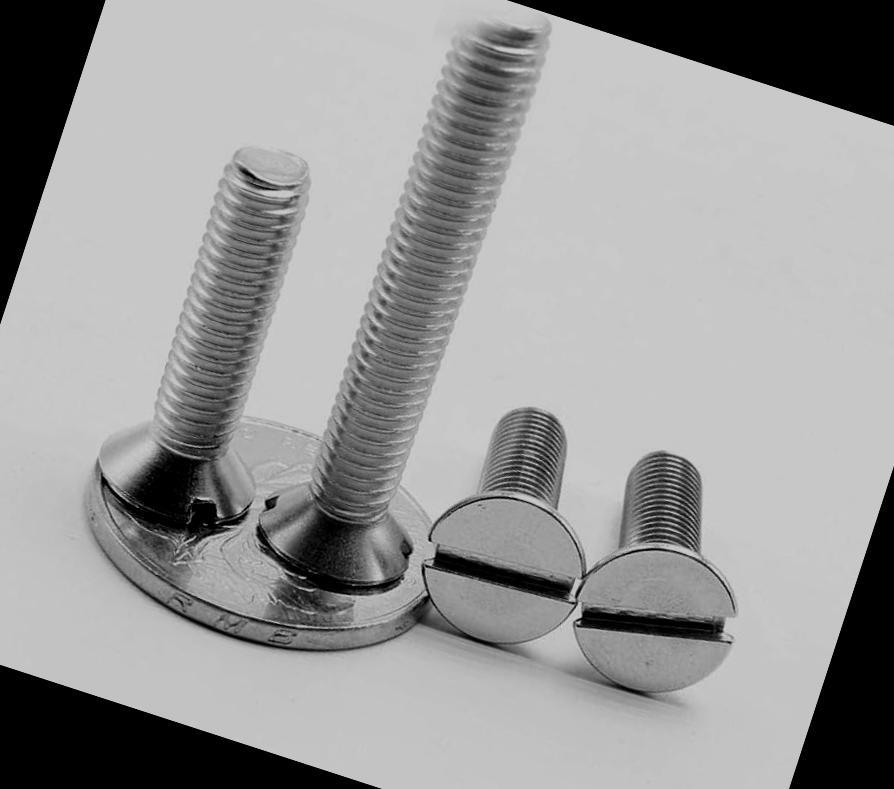screw: (406, 473, 599, 670), (556, 532, 752, 722)
